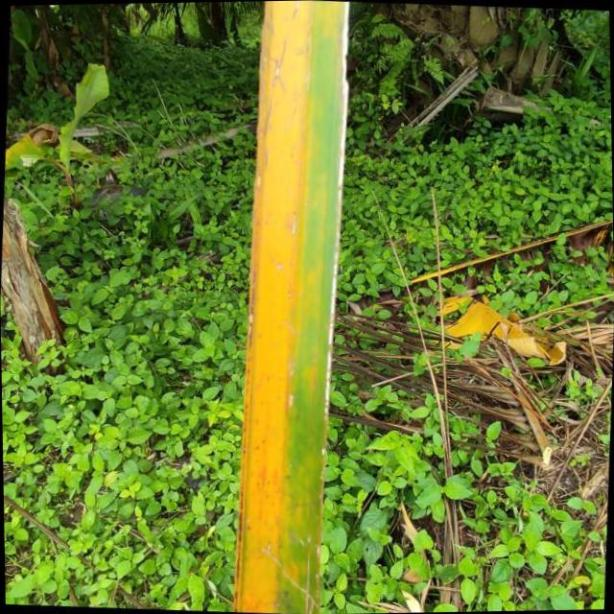Megnesium: (238, 0, 352, 614)
